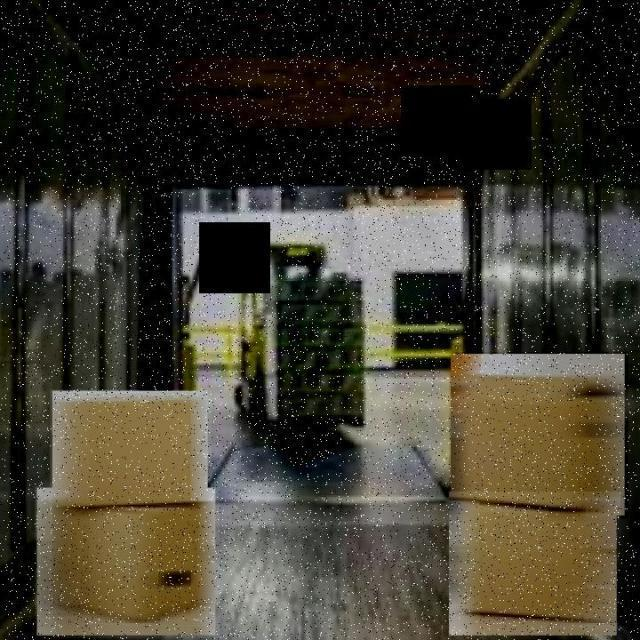box: (448, 352, 628, 519), (34, 486, 220, 638), (449, 492, 622, 640), (50, 390, 212, 516)
